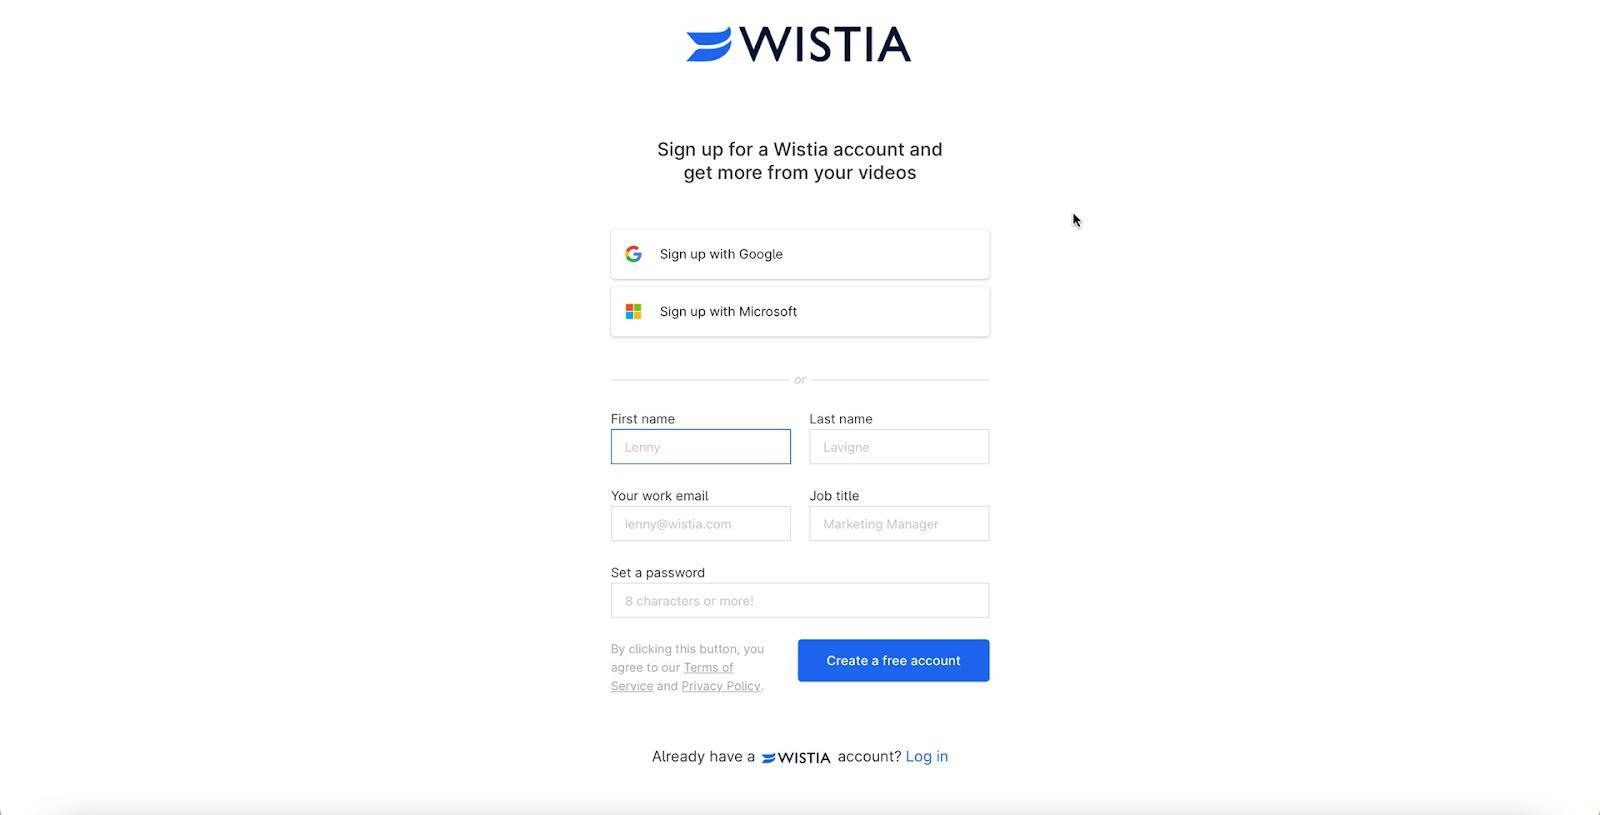button: (609, 226, 992, 281), (612, 288, 987, 337), (800, 639, 991, 682)
input: (612, 584, 990, 620), (611, 428, 790, 467), (809, 507, 991, 543), (611, 506, 792, 542), (810, 430, 991, 464)
label: (612, 488, 712, 505), (603, 567, 710, 582), (610, 407, 679, 428), (805, 407, 871, 429), (807, 491, 862, 504)
